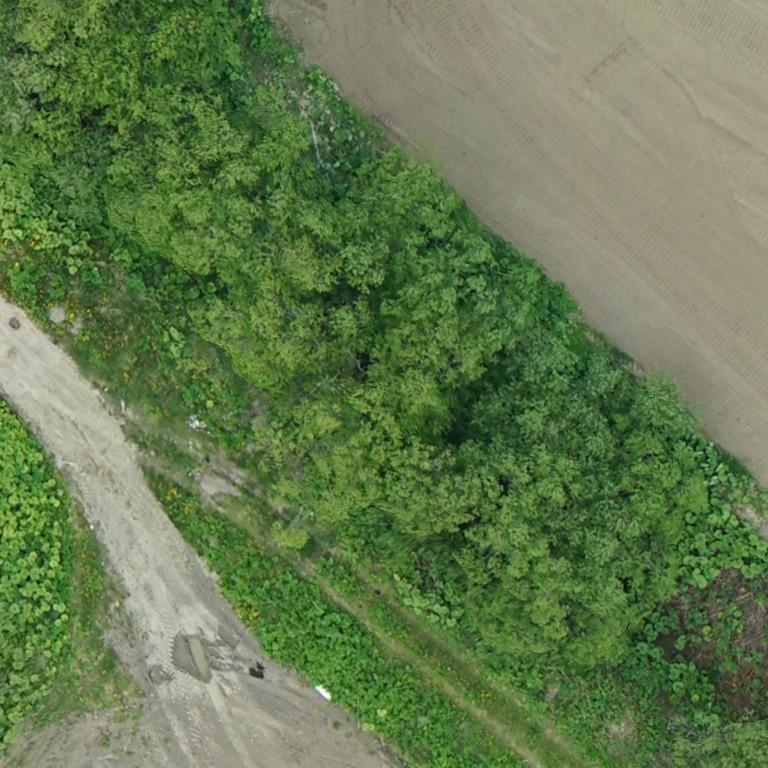hogweed: (175, 510, 483, 767)
